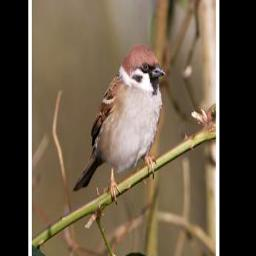Sparrow: (69, 43, 168, 205)
